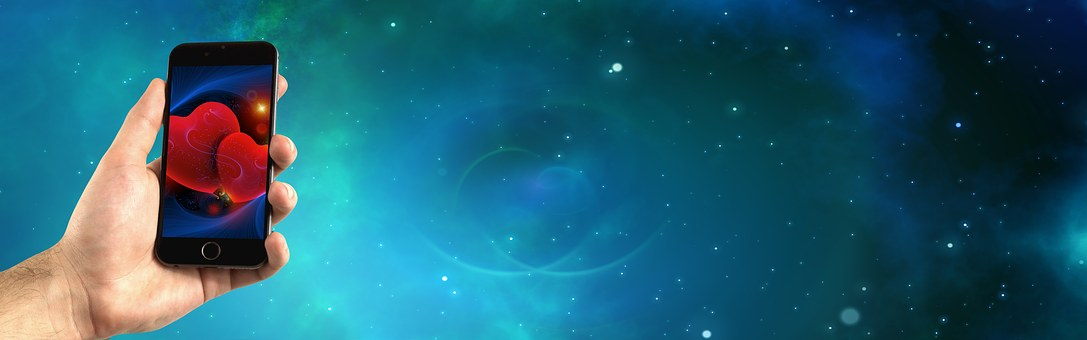mobile: (95, 19, 303, 314)
